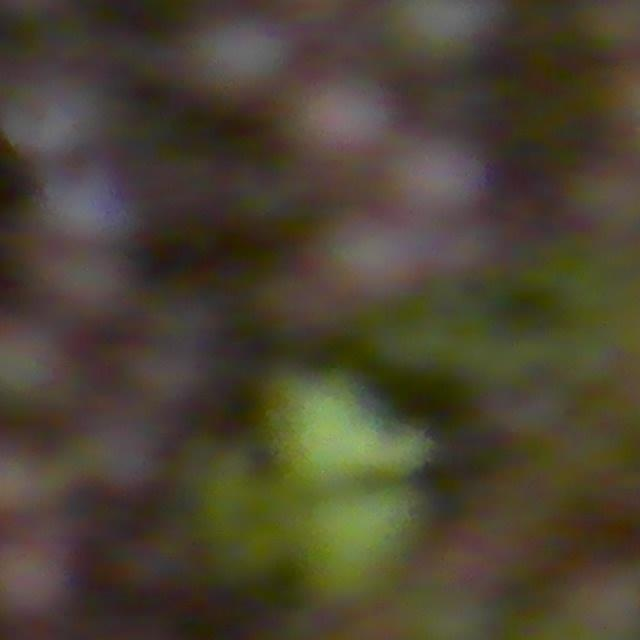SeaGrape: (294, 475, 417, 606), (272, 368, 390, 494), (312, 208, 423, 304), (290, 73, 393, 165), (190, 12, 290, 106), (30, 250, 133, 336), (398, 132, 494, 220), (390, 0, 503, 71), (0, 520, 59, 618)
